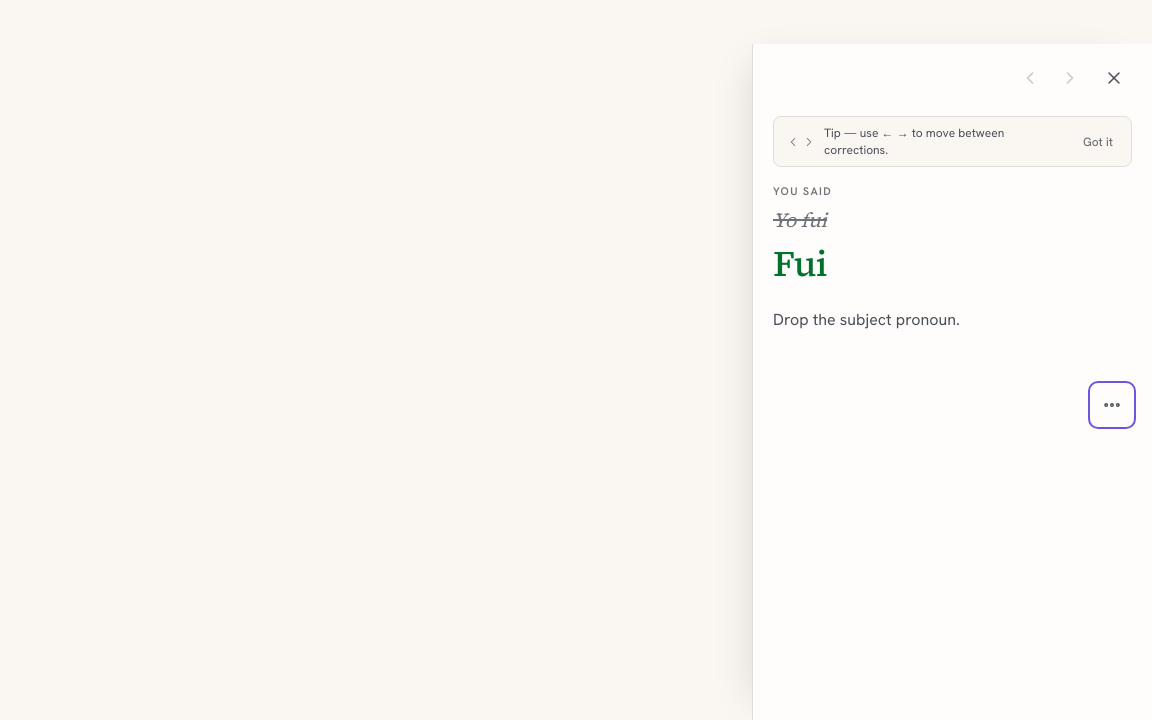
WriteSheet — overflow menu › closes the menu when Escape is pressed without dismissing the sheet
Click the button with test id "sheet-overflow".
click(1112, 405)  # box [1092,385,1132,425]
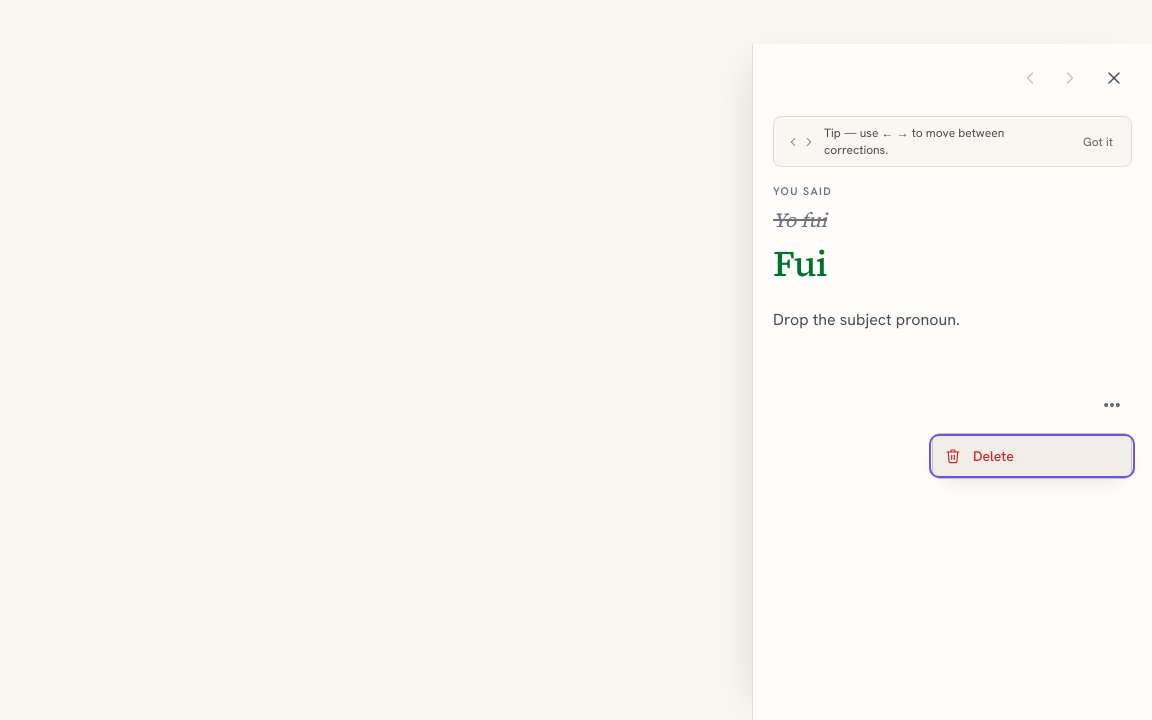
expect the menu item with test id "sheet-delete" is shown: met, box [933,438,1131,474]
Press Escape
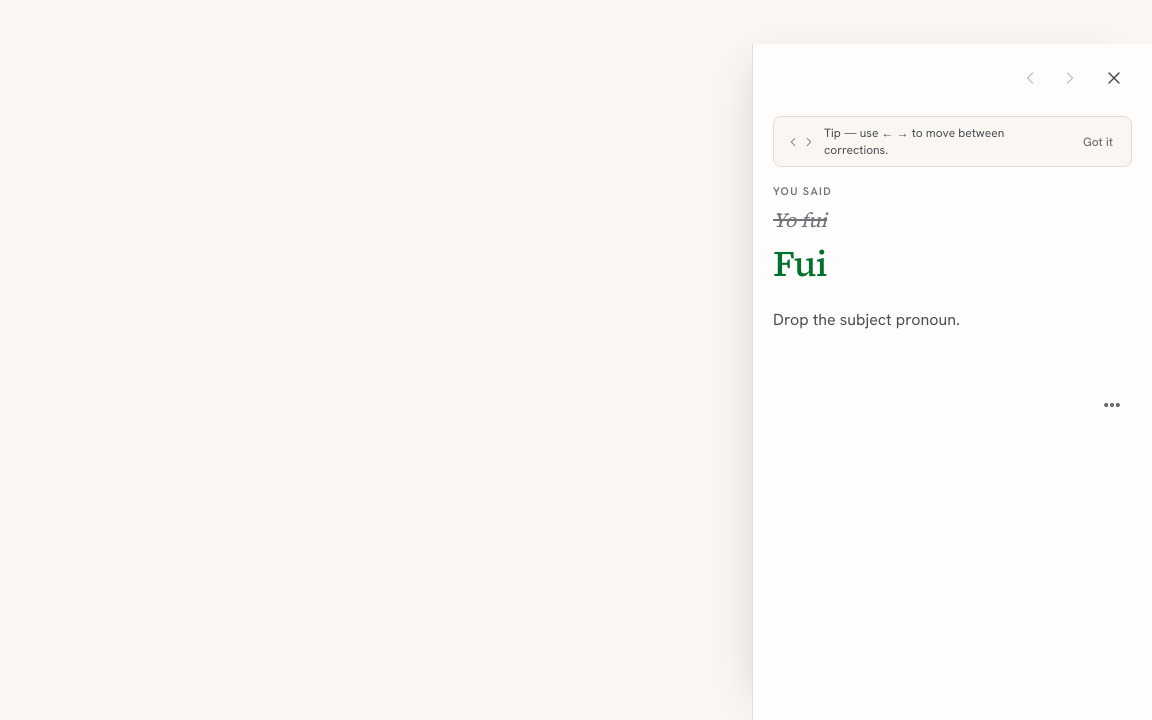
expect the dialog is shown: met, box [752,44,1151,719]
expect the menu item with test id "sheet-delete" is gone: met
